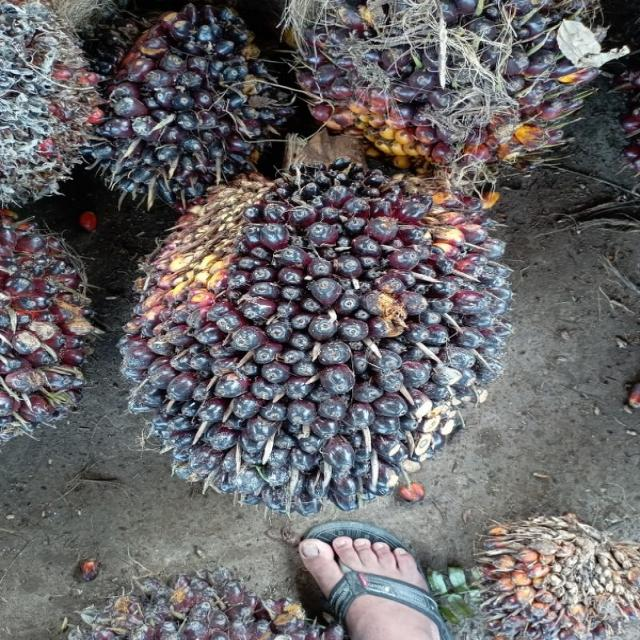fraksi 00: (128, 171, 509, 510), (283, 0, 613, 156), (76, 0, 296, 208)
